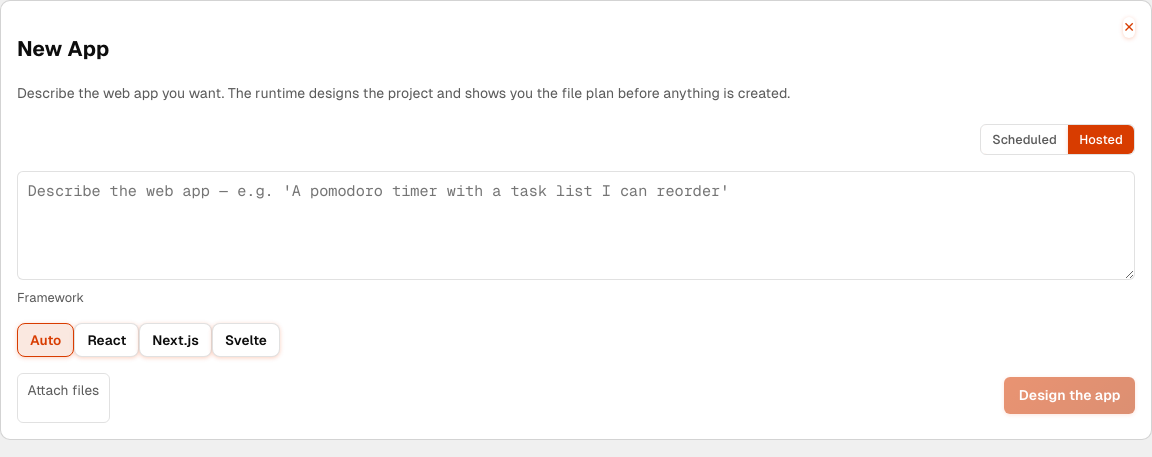
Scenario: the chat surface derives before it creates › a hosted design reviews its FILE PLAN, not a workflow
This screenshot has width=1152, height=457.
Replace the text in the 2nd text box with test id "new-app-prompt" with "a timer" at (576, 226), box x1=17 y1=171 x2=1135 y2=280
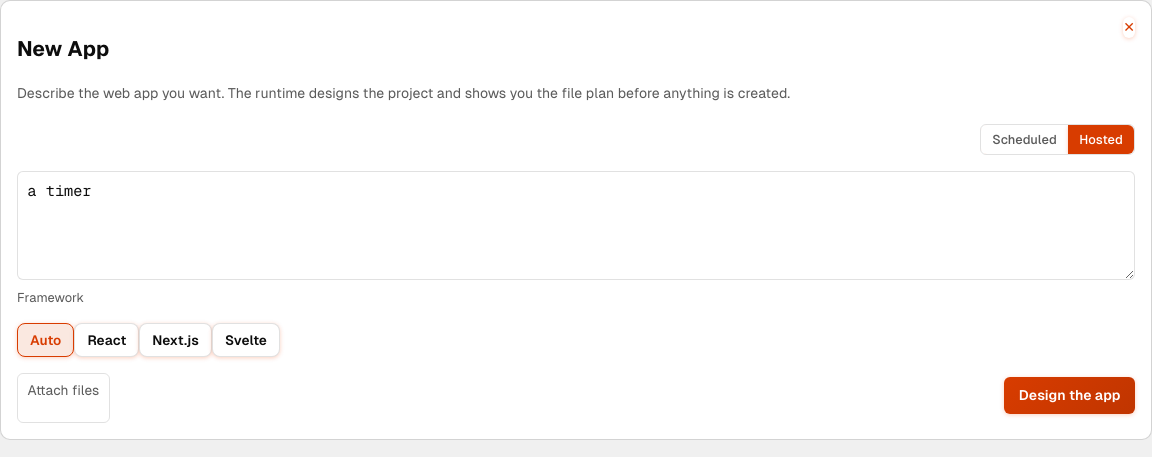
Click the button with test id "new-app-derive" at (1070, 396), box x1=1004 y1=377 x2=1135 y2=414
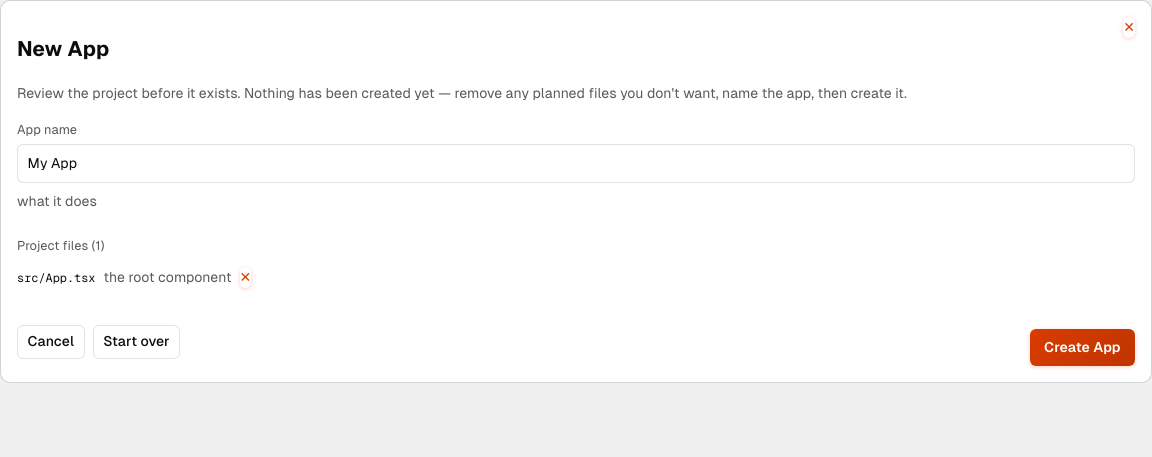
Now the element with test id "new-app-files" that starts with "Project files (" is shown, box x1=17 y1=238 x2=251 y2=288
Now the list item with test id "new-app-file-src/App.tsx" is shown, box x1=17 y1=267 x2=251 y2=288
